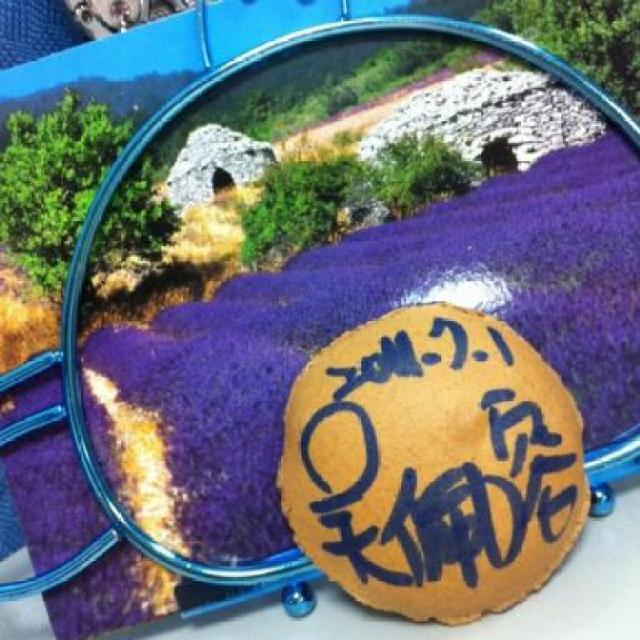Macaron: (274, 308, 612, 640)
